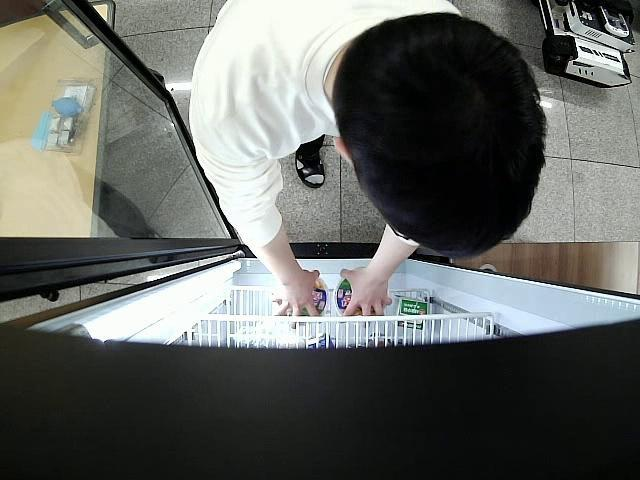09_yukGaeJang: (275, 276, 330, 317), (334, 277, 375, 318)
